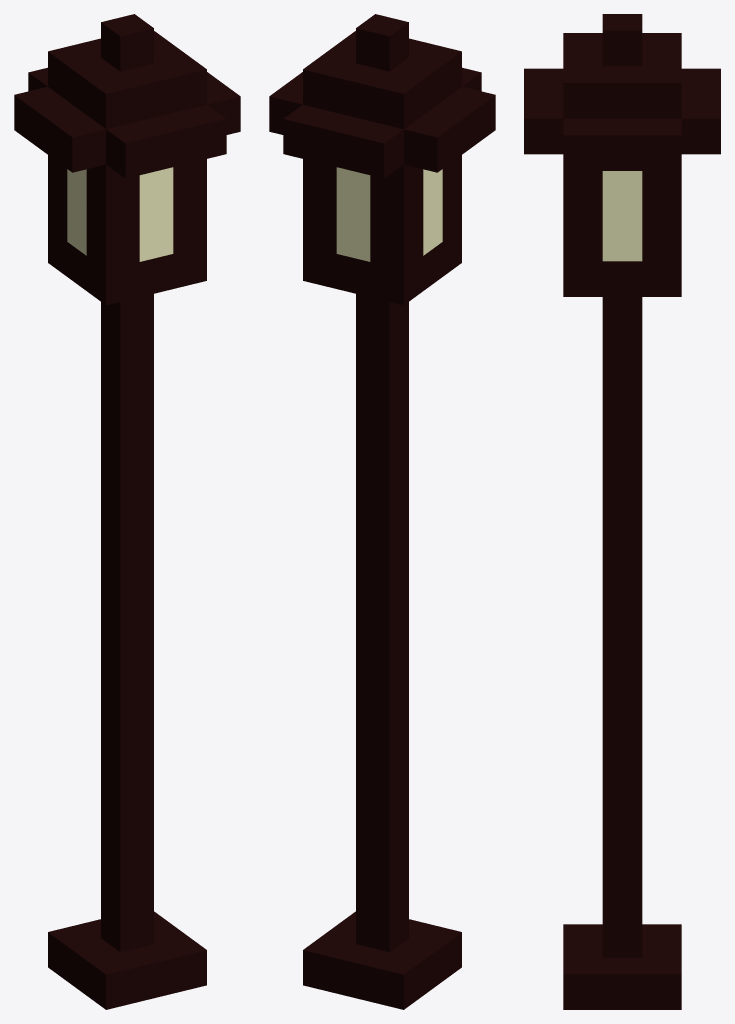
Rendered from Streetlight.fbx.
3 renders of one model, left to right at view 1: azimuth 30°, elevation 25°; view 2: azimuth 150°, elevation 25°; view 3: azimuth 270°, elevation 25°, orthographic.
Parts seen in each view (by area): view 1: 立方体.065, 立方体.001, 立方体.086, 立方体.068, 立方体.095, 立方体.029, 立方体.038, 立方体.047, 立方体.087, 立方体.002, 立方体.012, 立方体.014 (+43 smaller); view 2: 立方体.083, 立方体.007, 立方体.092, 立方体.078, 立方体.095, 立方体.035, 立方体.044, 立方体.053, 立方体.093, 立方体.008, 立方体.012, 立方体.014 (+43 smaller); view 3: 立方体.091, 立方体.006, 立方体.077, 立方体.095, 立方体.003, 立方体.009, 立方体.072, 立方体.082, 立方体.088, 立方体.094, 立方体.067, 立方体.085 (+43 smaller).
Part boxes in pixels (x1,y1,x2,y2): 立方体.065: (106,121,159,178); 立方体.001: (86,952,139,1009); 立方体.086: (86,71,139,129); 立方体.068: (53,115,105,172); 立方体.095: (101,14,153,71); 立方体.029: (86,256,139,305); 立方体.038: (86,221,139,269); 立方体.047: (86,186,139,234); 立方体.087: (121,63,173,120); 立方体.002: (121,944,173,1001); 立方体.012: (101,832,153,881); 立方体.014: (101,762,153,811); 立方体.083: (350,121,403,178); 立方体.007: (370,952,423,1009); 立方体.092: (370,71,423,129); 立方体.078: (404,115,456,172); 立方体.095: (356,14,408,71); 立方体.035: (370,256,423,305); 立方体.044: (370,221,423,269); 立方体.053: (370,186,423,234); 立方体.093: (336,63,388,120); 立方体.008: (336,944,388,1001); 立方体.012: (356,832,408,881); 立方体.014: (356,762,408,811); 立方体.091: (602,66,642,118); 立方体.006: (602,957,642,1009); 立方体.077: (602,118,642,170); 立方体.095: (602,14,642,66); 立方体.003: (563,957,602,1009); 立方体.009: (642,957,681,1009); 立方体.072: (563,118,602,170); 立方体.082: (642,118,681,170); 立方体.088: (563,66,602,118); 立方体.094: (642,66,681,118); 立方体.067: (524,102,563,154); 立方体.085: (681,102,720,154).
Bounding box in the file's own units: 500 × 2700 × 500.
